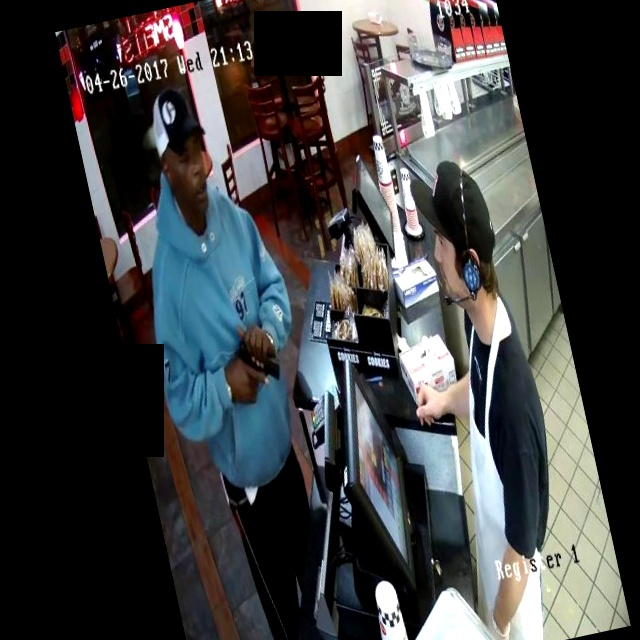gun: (219, 320, 292, 403)
